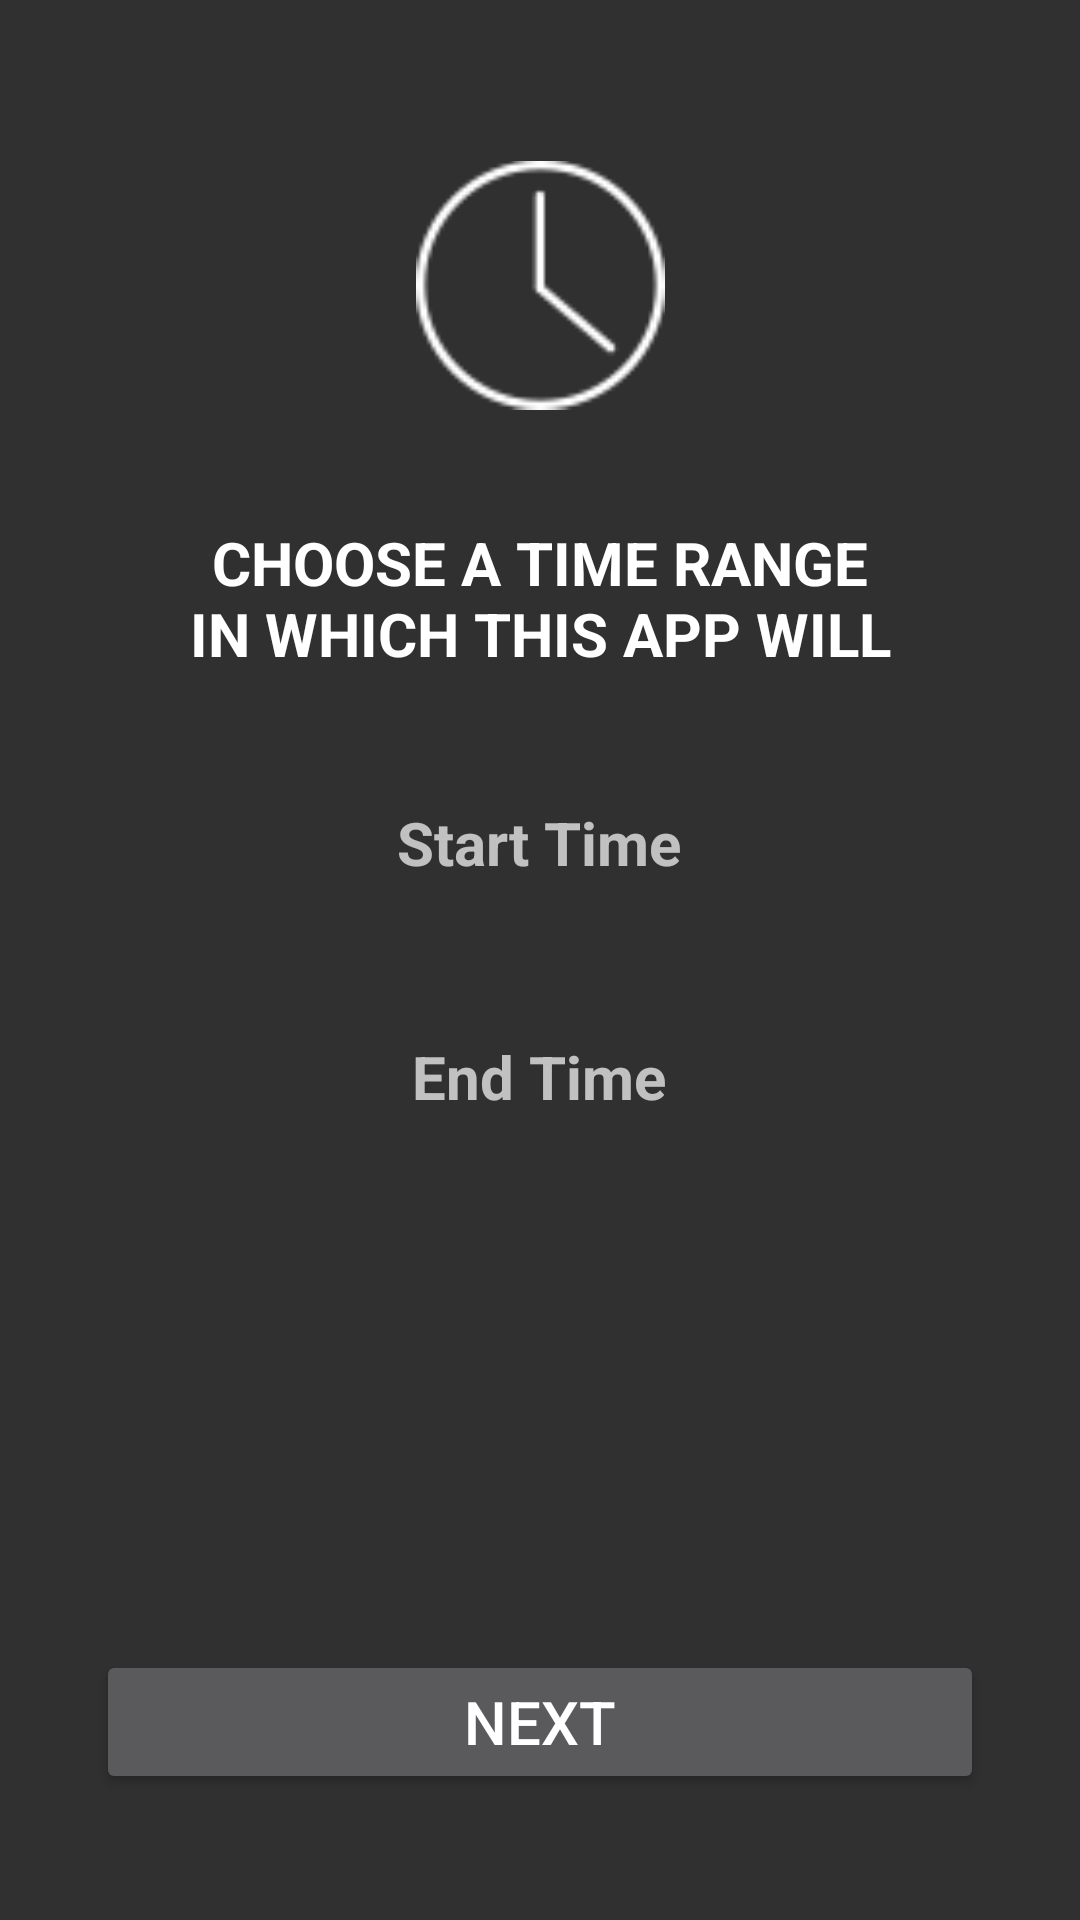

Where to tap for icons on this 1080x1920 app screen, as [x,y]:
clock: [540,285]
